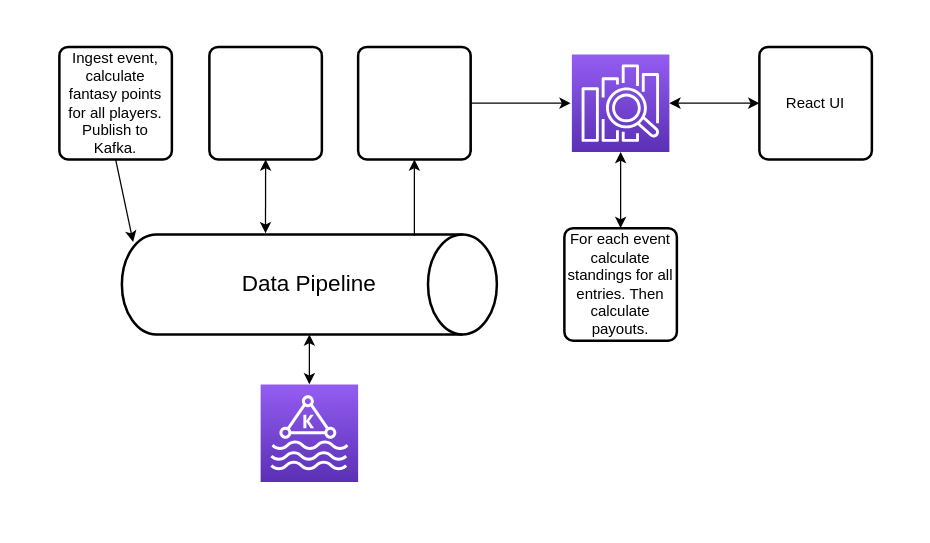
Some shapes in this 930 by 543 pixel diagram are drawn without their labels. Here are the shapes that lost their labels. From the top down, the centre of each, then its label:
At point 265,102: "Calculate lineup scores for 400,000+ entries, publish to Kafka.".
At point 413,102: "Batch process entries and bulk post to Elasticsearch.".
